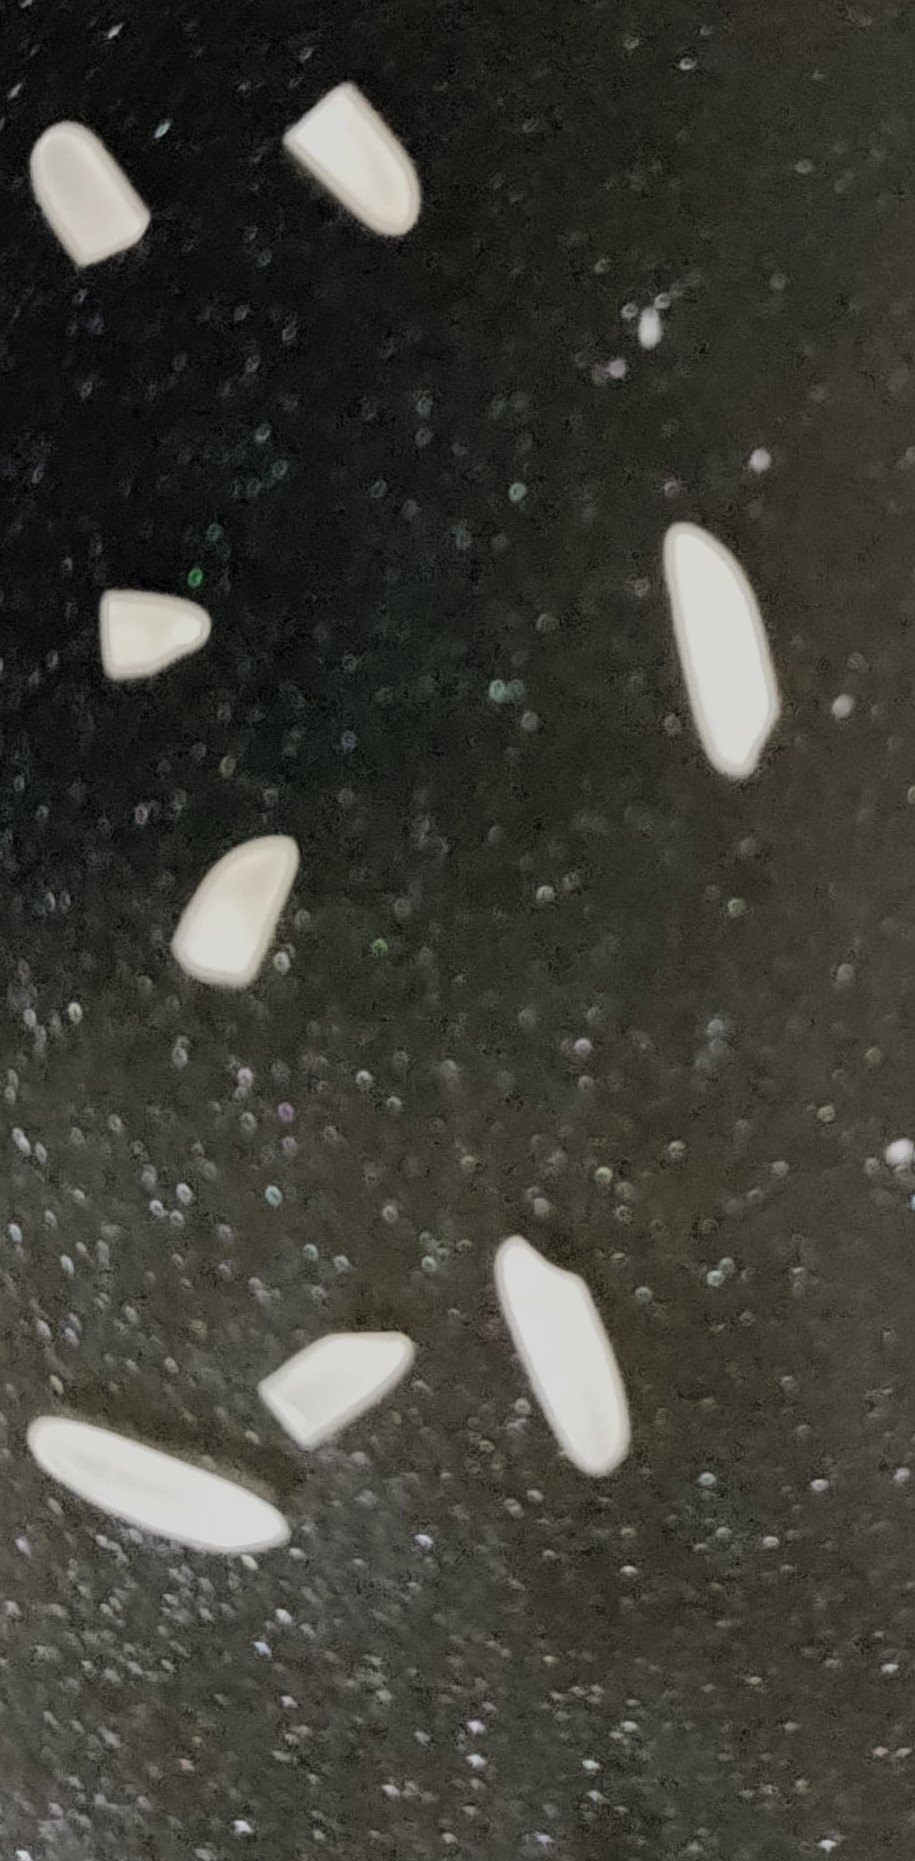broken_grain: (281, 64, 431, 256), (169, 824, 314, 1006), (22, 114, 164, 278), (253, 1312, 422, 1447), (90, 574, 212, 683)
complete_grain: (21, 1412, 299, 1594), (489, 1214, 655, 1497), (647, 506, 803, 801)
